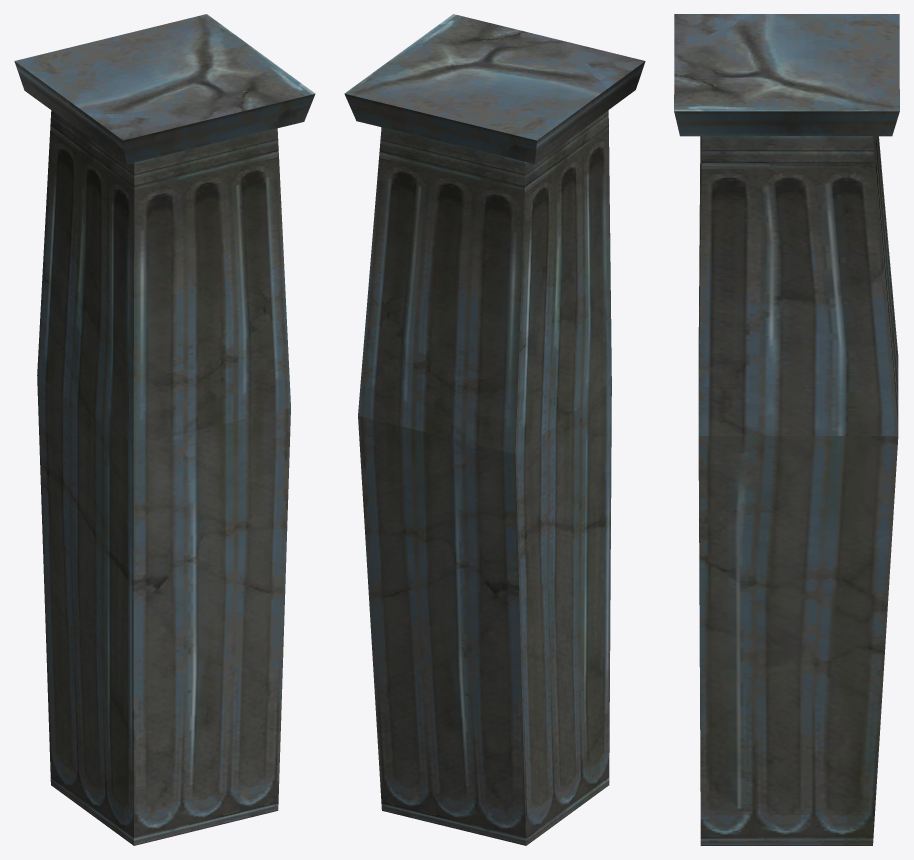
The model's file is stemple_pillar_12.fbx.
3 views of the same model, side by side, from view 1: azimuth 30°, elevation 25°; view 2: azimuth 150°, elevation 25°; view 3: azimuth 270°, elevation 25° (orthographic). The views are drawn at different scales.
Visible parts, largest first — view 1: stemple_pillar_12-0; view 2: stemple_pillar_12-0; view 3: stemple_pillar_12-0.
Boxes of the visible parts, box(x1,y1,x2,y2) form: stemple_pillar_12-0: box(14, 14, 315, 845); stemple_pillar_12-0: box(344, 14, 645, 845); stemple_pillar_12-0: box(674, 14, 899, 845).
Bounding box in the file's own units: 1.77 × 6.34 × 1.74.
